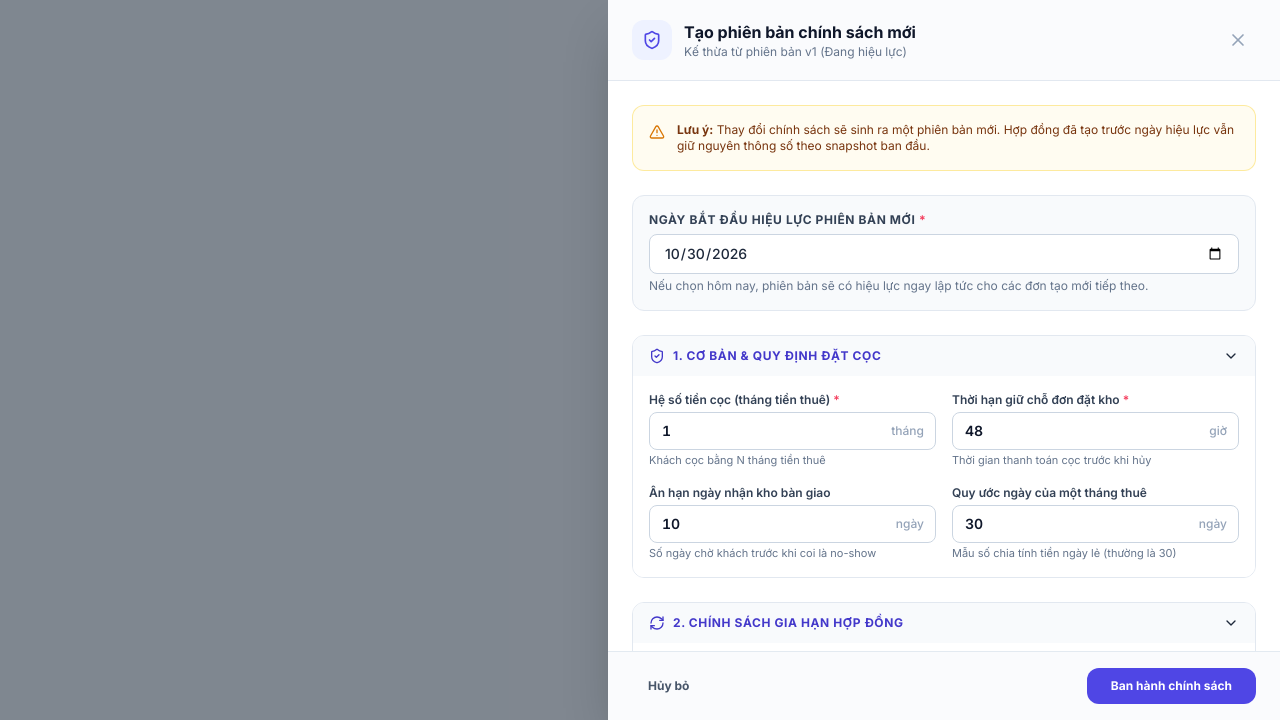
Scenario: PolicyDrawer › renders correctly in publish mode and displays diff preview when a field changes
Expected: the heading "Tạo phiên bản chính sách mới" is shown, [684,20,916,44]
Replace the text in the number field labelled "Hệ số tiền cọc (tháng tiền thuê) *" with "2": (792, 431) [649,412,936,450]
(page scrolled)
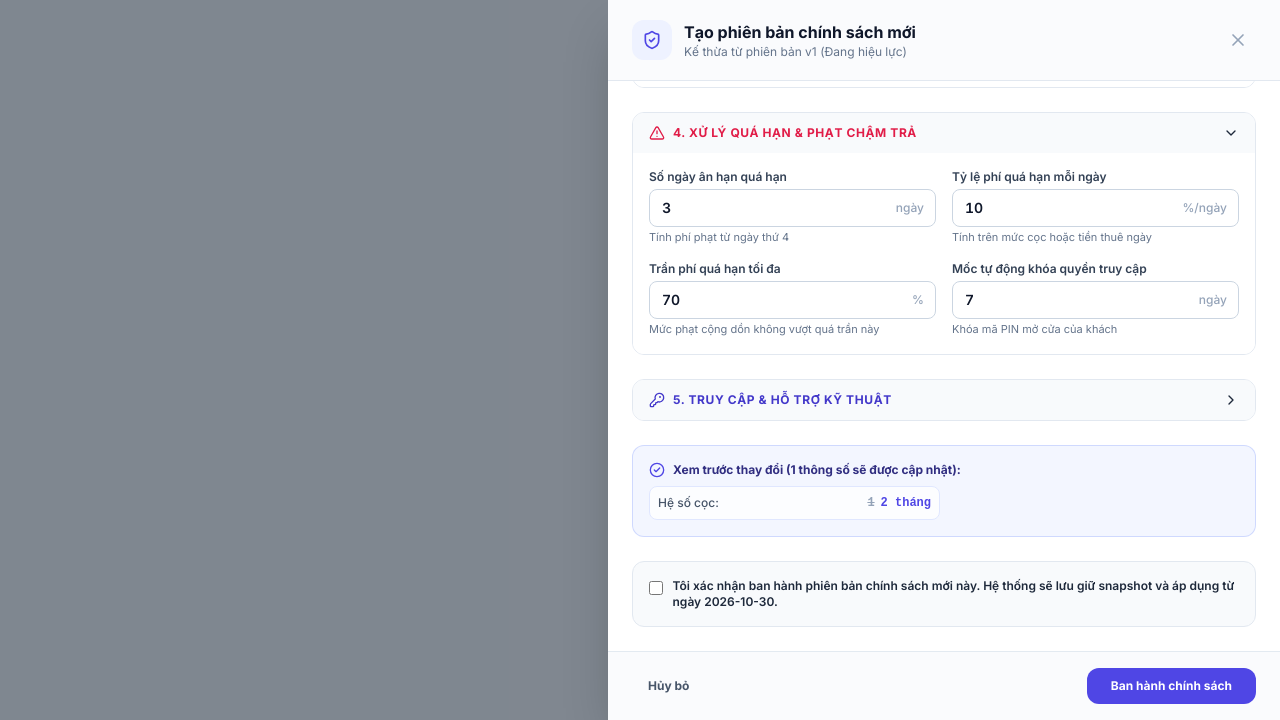
Now the text "Xem trước thay đổi (1 thông số sẽ được cập nhật):" is shown, box [673,462,961,478]
Now the text "Hệ số cọc:" is shown, box [658,494,719,510]
